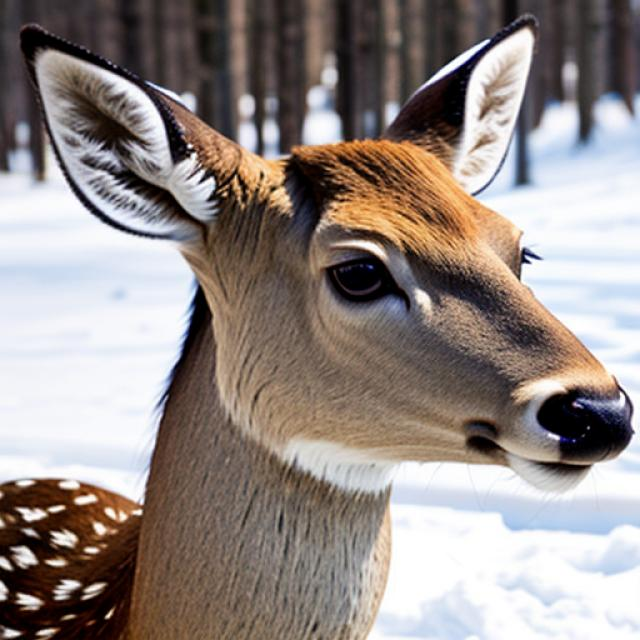deer: (11, 1, 639, 640)
